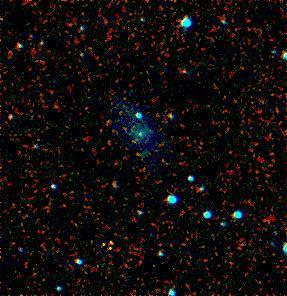star: (92, 107, 122, 137)
